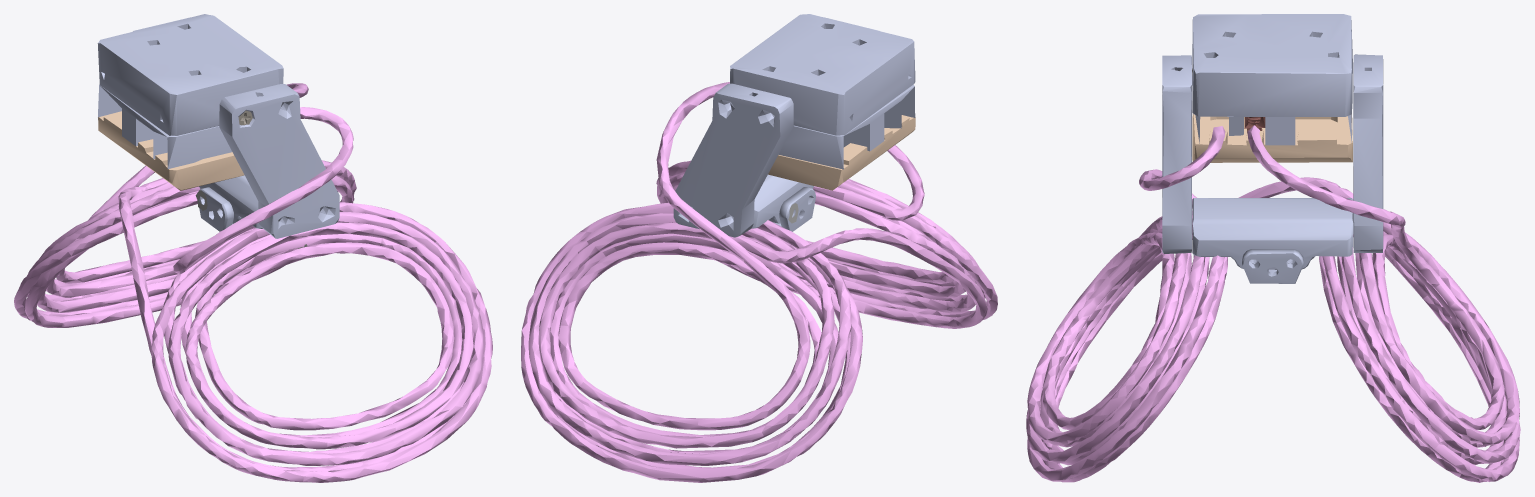
File: extrah10.FBX
The picture shows the model from 3 angles, left to right: view 1: azimuth 30°, elevation 25°; view 2: azimuth 150°, elevation 25°; view 3: azimuth 270°, elevation 25°; orthographic projection. The views are drawn at different scales.
Visible parts, largest first — view 1: VIFS001, VIFS004, VIFS019, VIFS006, VIFS020, VIFS009, VIFS005; view 2: VIFS001, VIFS004, VIFS018, VIFS006, VIFS020, VIFS009, VIFS005; view 3: VIFS001, VIFS004, VIFS009, VIFS018, VIFS019, VIFS020, VIFS005, VIFS006.
Boxes of the visible parts, x1,y1,x2,y2 form: VIFS001: (14, 83, 492, 482); VIFS004: (97, 14, 283, 135); VIFS019: (219, 84, 339, 238); VIFS006: (98, 84, 232, 168); VIFS020: (98, 111, 244, 190); VIFS009: (199, 175, 262, 228); VIFS005: (198, 187, 233, 231); VIFS001: (521, 82, 997, 482); VIFS004: (730, 14, 915, 135); VIFS018: (673, 83, 793, 237); VIFS006: (778, 84, 915, 169); VIFS020: (768, 115, 915, 190); VIFS009: (752, 174, 813, 228); VIFS005: (774, 187, 815, 231); VIFS001: (1026, 125, 1520, 482); VIFS004: (1192, 14, 1352, 116); VIFS009: (1192, 198, 1353, 269); VIFS018: (1353, 54, 1383, 252); VIFS019: (1162, 55, 1191, 253); VIFS020: (1192, 113, 1352, 162); VIFS005: (1241, 249, 1303, 283); VIFS006: (1195, 114, 1351, 145).
Bounding box in the file's own units: 0.1598 × 0.1659 × 0.1991.
